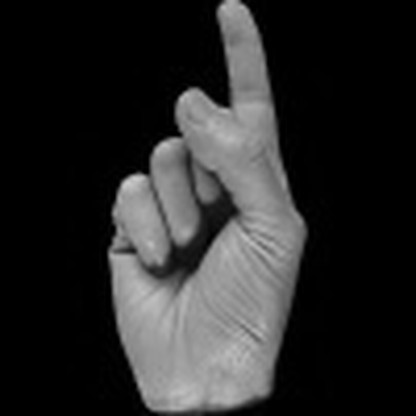d: (107, 1, 307, 403)
